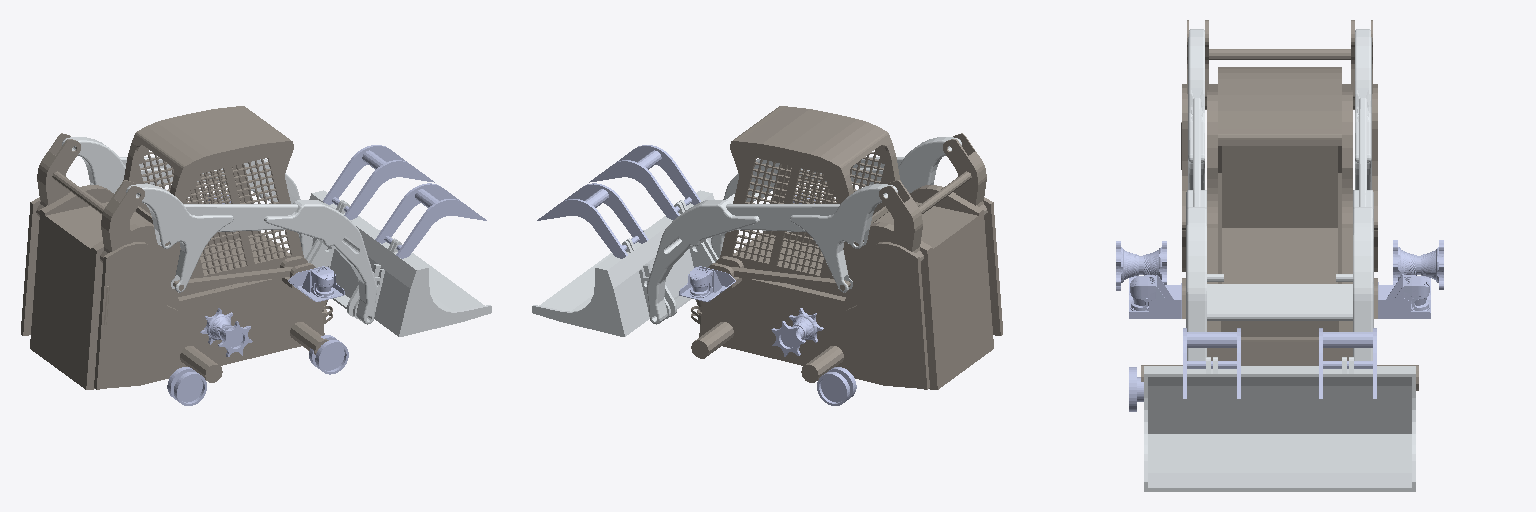
--- Render facts (derived) ---
3 views of the same robot in one strip: view 1: azimuth 30°, elevation 25°; view 2: azimuth 150°, elevation 25°; view 3: azimuth 270°, elevation 25° (orthographic).
Robot: Sahar — 18 links, 17 joints (5 revolute, 6 continuous, 6 fixed); root link body; default pose: every joint at zero.
Links seen in each view (by area): view 1: body, cabin, main_arm, loader, brackets, base_arm, right_sick_link, right_wheel, back_right_boggie, supporter, front_right_boggie; view 2: body, cabin, main_arm, loader, brackets, base_arm, left_sick_link, left_wheel, back_left_boggie, supporter; view 3: loader, body, main_arm, cabin, brackets, base_arm, left_sick_link, right_sick_link, left_wheel, right_wheel.
Link boxes in pixels (x1,y1,x2,y2): body: (21,185,328,389); cabin: (123,106,303,297); main_arm: (62,137,376,324); loader: (305,190,491,336); brackets: (323,145,486,258); base_arm: (36,133,144,262); right_sick_link: (288,266,344,301); right_wheel: (200,308,252,356); back_right_boggie: (167,367,206,405); supporter: (173,267,292,290); front_right_boggie: (309,335,348,374); body: (691,185,1002,389); cabin: (720,106,900,297); main_arm: (647,137,961,324); loader: (532,190,718,336); brackets: (537,145,700,258); base_arm: (879,133,987,262); left_sick_link: (679,266,735,301); left_wheel: (771,308,823,356); back_left_boggie: (817,367,856,405); supporter: (731,267,850,290); loader: (1144,357,1415,491); body: (1141,84,1418,390); main_arm: (1186,29,1373,360); cabin: (1218,67,1341,283); brackets: (1183,328,1376,398); base_arm: (1187,20,1372,109); left_sick_link: (1378,274,1430,318); right_sick_link: (1129,275,1181,318); left_wheel: (1393,240,1443,289); right_wheel: (1116,241,1166,290).
Bounding box of the posed robot: 3.57 × 2 × 1.87 m (x, y, z).
16 mesh visuals loaded from 18 distinct referenced files (16 binary STL); not drawn: 2 (reference not matched to a file when rendering).

robot.urdf — Sahar:
<?xml version="1.0"?>
<robot
  name="Sahar">
  <link
    name="body">
    <inertial>
      <origin
        xyz="-0.890714078986241 0.000176354230843794 0.525609535873677"
        rpy="0 0 0" />
      <mass
        value="2112.2632057713" />
      <inertia
        ixx="330.451427275626"
        ixy="0.1258707518716585"
        ixz="-85.8115001993615"
        iyy="750.047261721269"
        iyz="-0.001202697501709275"
        izz="817.534535636717" />
    </inertial>
    <visual>
      <origin
        xyz="0 0 0"
        rpy="0 0 0" />
      <geometry>
        <mesh
          filename="package://bobcat/meshes/body.STL" />
      </geometry>
      <material
        name="">
        <color
          rgba="0.647058823529412 0.619607843137255 0.588235294117647 0.5" />
      </material>
    </visual>
    <collision>
      <origin
        xyz="0 0 0"
        rpy="0 0 0" />
      <geometry>
        <mesh
          filename="package://bobcat/meshes/body.STL" />
      </geometry>
    </collision>
  </link>
<!--
  <link
    name="front_left_wheel">
    <inertial>
      <origin
        xyz="2.0502E-07 0.19645 -3.6566E-09"
        rpy="0 0 0" />
      <mass
        value="333.358058377662" />
      <inertia
        ixx="17.076451771348393"
        ixy="-0.0000402018623479272"
        ixz="0.0000757982020811204"
        iyy="29.61581234283818"
        iyz="-0.66419529835185E-05"
        izz="17.076451812789907" />
    </inertial>
    <visual>
      <origin
        xyz="0 0 0"
        rpy="0 0 0" />
      <geometry>
        <mesh
          filename="package://bobcat/meshes/front_left_wheel.stl" />
      </geometry>
      <material
        name="">
        <color
          rgba="0.64706 0.61961 0.58824 1" />
      </material>
    </visual>
    <collision>
      <origin
        xyz="0 0.2 0"
        rpy="1.5708 0 0" />
      <geometry>
        <cylinder length="0.4" radius="0.4" 
          />
      </geometry>
    </collision>
  </link>
  <joint
    name="front_left_wheel_joint"
    type="continuous">
    <origin
      xyz="-0.22722 0.47558 0.125"
      rpy="0 2.1164E-16 0" />
    <parent
      link="body" />
    <child
      link="front_left_wheel" />
    <axis
      xyz="0 1 0" />
  </joint>
  <link
    name="front_right_wheel">
    <inertial>
      <origin
        xyz="-2.0519E-07 -0.19645 -4.3198E-09"
        rpy="0 0 0" />
      <mass
        value="333.358057183995" />
      <inertia
        ixx="17.076452573211751"
        ixy="-0.0000366953981898767"
        ixz="-0.0000754939559210241"
        iyy="29.61581234970523"
        iyz="1.220983077663846E-05"
        izz="17.076451008669259" />
    </inertial>
    <visual>
      <origin
        xyz="0 0 0"
        rpy="0 0 0" />
      <geometry>
        <mesh
          filename="package://bobcat/meshes/front_right_wheel.stl" />
      </geometry>
      <material
        name="">
        <color
          rgba="0.64706 0.61961 0.58824 1" />
      </material>
    </visual>
    <collision>
      <origin
        xyz="0 0.2 0"
        rpy="1.5708 0 0" />
      <geometry>
        <cylinder length="0.4" radius="0.4" 
          />
      </geometry>
    </collision>
  </link>
  <joint
    name="front_right_wheel_joint"
    type="continuous">
    <origin
      xyz="-0.22722 -0.47558 0.125"
      rpy="0 2.1164E-16 0" />
    <parent
      link="body" />
    <child
      link="front_right_wheel" />
    <axis
      xyz="0 1 0" />
  </joint>
  <link
    name="back_left_wheel">
    <inertial>
      <origin
        xyz="7.7344E-08 0.19645 1.8868E-07"
        rpy="0 0 0" />
      <mass
        value="333.35805719188" />
      <inertia
        ixx="17.076452970123344"
        ixy="-2.7936718473607865E-06"
        ixz="-0.0000668628917564486"
        iyy="29.61581228201546"
        iyz="-0.0000133650614295266"
        izz="17.076450606340583" />
    </inertial>
    <visual>
      <origin
        xyz="0 0 0"
        rpy="0 0 0" />
      <geometry>
        <mesh
          filename="package://bobcat/meshes/back_left_wheel.stl" />
      </geometry>
      <material
        name="">
        <color
          rgba="0.64706 0.61961 0.58824 1" />
      </material>
    </visual>
    <collision>
      <origin
        xyz="0 -0.2 0"
        rpy="1.5708 0 0" />
      <geometry>
        <cylinder length="0.4" radius="0.4" 
          />
      </geometry>
    </collision>
  </link>
  <joint
    name="back_left_wheel_joint"
    type="continuous">
    <origin
      xyz="-1.227 0.47558 0.14772"
      rpy="0 2.1164E-16 0" />
    <parent
      link="body" />
    <child
      link="back_left_wheel" />
    <axis
      xyz="0 1 0" />
  </joint>
  <link
    name="back_right_wheel">
    <inertial>
      <origin
        xyz="-1.4894E-07 -0.19645 1.3751E-07"
        rpy="0 0 0" />
      <mass
        value="333.36" />
      <inertia
        ixx="17.07645"
        ixy="-1.87699E-05"
        ixz="1.23277E-05"
        iyy="29.6158"
        iyz="0.000031578"
        izz="17.07645" />
    </inertial>
    <visual>
      <origin
        xyz="0 0 0"
        rpy="0 0 0" />
      <geometry>
        <mesh
          filename="package://bobcat/meshes/back_right_wheel.stl" />
      </geometry>
      <material
        name="">
        <color
          rgba="0.64706 0.61961 0.58824 1" />
      </material>
    </visual>
    <collision>
      <origin
        xyz="0 -0.2 0"
        rpy="1.5708 0 0" />
      <geometry>
        <cylinder length="0.4" radius="0.4" 
          />
      </geometry>
    </collision>
  </link>
  <joint
    name="back_right_wheel_joint"
    type="continuous">
    <origin
      xyz="-1.227 -0.47558 0.14772"
      rpy="0 2.1164E-16 0" />
    <parent
      link="body" />
    <child
      link="back_right_wheel" />
    <axis
      xyz="0 1 0" />
  </joint>
-->
  <link
    name="base_arm">
    <inertial>
      <origin
        xyz="0.066509 1.9771E-12 0.25686"
        rpy="0 0 0" />
      <mass
        value="194.91" />
      <inertia
        ixx="50.76"
        ixy="-2.9264E-11"
        ixz="0.66798"
        iyy="4.8017"
        iyz="7.0403E-12"
        izz="47.388" />
    </inertial>
    <visual>
      <origin
        xyz="0 0 0"
        rpy="0 0 0" />
      <geometry>
        <mesh
          filename="package://bobcat/meshes/base_arm.STL" />
      </geometry>
      <material
        name="">
        <color
          rgba="0.64706 0.61961 0.58824 1" />
      </material>
    </visual>
    <collision>
      <origin
        xyz="0 0 0"
        rpy="0 0 0" />
      <geometry>
        <mesh
          filename="package://bobcat/meshes/base_arm.STL" />
      </geometry>
    </collision>
  </link>
  <joint
    name="base_arm_joint"
    type="revolute">
    <origin
      xyz="-1.9776 0 1.1773"
      rpy="0 2.1164E-16 0" />
    <parent
      link="body" />
    <child
      link="base_arm" />
    <axis
      xyz="0 1 0" />
    <limit
      lower="-1.57"
      upper="1.57"
      effort="1000000"
      velocity="100" />
  </joint>
  <link
    name="main_arm">
    <inertial>
      <origin
        xyz="1.1865 -4.0206E-07 -0.60466"
        rpy="0 0 0" />
      <mass
        value="369.05" />
      <inertia
        ixx="133.74"
        ixy="0.00012791"
        ixz="-68.753"
        iyy="216.24"
        iyz="-4.6593E-05"
        izz="268.55" />
    </inertial>
    <visual>
      <origin
        xyz="0 0 0"
        rpy="0 0 0" />
      <geometry>
        <mesh
          filename="package://bobcat/meshes/main_arm.STL" />
      </geometry>
      <material
        name="">
        <color
          rgba="0.89412 0.91373 0.92941 1" />
      </material>
    </visual>
    <collision>
      <origin
        xyz="0 0 0"
        rpy="0 0 0" />
      <geometry>
        <mesh
          filename="package://bobcat/meshes/main_arm.STL" />
      </geometry>
    </collision>
  </link>
  <joint
    name="main_arm_joint"
    type="revolute">
    <origin
      xyz="0.22304 0 0.5262"
      rpy="0 -2.1164E-16 0" />
    <parent
      link="base_arm" />
    <child
      link="main_arm" />
    <axis
      xyz="0 1 0" />
    <limit
      lower="-1.57"
      upper="1.57"
      effort="1000000"
      velocity="100" />
  </joint>
  <link
    name="supporter">
    <inertial>
      <origin
        xyz="0.51341 -4.9085E-16 -0.060486"
        rpy="0 0 0" />
      <mass
        value="65.29" />
      <inertia
        ixx="16.898"
        ixy="-2.3004E-13"
        ixz="-0.76501"
        iyy="6.6127"
        iyz="-2.4072E-13"
        izz="23.301" />
    </inertial>
    <visual>
      <origin
        xyz="0 0 0"
        rpy="0 0 0" />
      <geometry>
        <mesh
          filename="package://bobcat/meshes/supporter.STL" />
      </geometry>
      <material
        name="">
        <color
          rgba="0.64706 0.61961 0.58824 1" />
      </material>
    </visual>
    <collision>
      <origin
        xyz="0 0 0"
        rpy="0 0 0" />
      <geometry>
        <mesh
          filename="package://bobcat/meshes/supporter.STL" />
      </geometry>
    </collision>
  </link>
  <joint
    name="supporter_joint"
    type="revolute">
    <origin
      xyz="0.39771 0 -0.89486"
      rpy="0 8.0491E-16 0" />
    <parent
      link="main_arm" />
    <child
      link="supporter" />
    <axis
      xyz="0 1 0" />
    <limit
      lower="-0.2"
      upper="1.5"
      effort="1000000"
      velocity="100" />
  </joint>
<!--  <link
    name="front_cylinder">
    <inertial>
      <origin
        xyz="0.16022 1.6587E-08 -0.17142"
        rpy="0 0 0" />
      <mass
        value="24.149" />
      <inertia
        ixx="4.0554"
        ixy="-4.9938E-08"
        ixz="-0.46391"
        iyy="0.95412"
        iyz="6.094E-08"
        izz="3.9926" />
    </inertial>
    <visual>
      <origin
        xyz="0 0 0"
        rpy="0 0 0" />
      <geometry>
        <mesh
          filename="package://bobcat/meshes/front_cylinder.STL" />
      </geometry>
      <material
        name="">
        <color
          rgba="0.64706 0.61961 0.58824 1" />
      </material>
    </visual>
    <collision>
      <origin
        xyz="0 0 0"
        rpy="0 0 0" />
      <geometry>
        <mesh
          filename="package://bobcat/meshes/front_cylinder.STL" />
      </geometry>
    </collision>
  </link>
  <joint
    name="front_cylinder_joint"
    type="revolute">
    <origin
      xyz="1.741 0 -0.80293"
      rpy="0 8.0491E-16 0" />
    <parent
      link="main_arm" />
    <child
      link="front_cylinder" />
    <axis
      xyz="0 1 0" />
    <limit
      lower="-1.57"
      upper="1.57"
      effort="1000000"
      velocity="100" />
  </joint>
  <link
    name="front_shaft">
    <inertial>
      <origin
        xyz="9.4954E-07 8.3283E-07 -0.19417"
        rpy="0 0 0" />
      <mass
        value="13.711" />
      <inertia
        ixx="2.4234"
        ixy="-2.5882E-07"
        ixz="1.3728E-06"
        iyy="0.41181"
        iyz="1.3005E-06"
        izz="2.0158" />
    </inertial>
    <visual>
      <origin
        xyz="0 0 0"
        rpy="0 0 0" />
      <geometry>
        <mesh
          filename="package://bobcat/meshes/front_shaft.STL" />
      </geometry>
      <material
        name="">
        <color
          rgba="0.64706 0.61961 0.58824 1" />
      </material>
    </visual>
    <collision>
      <origin
        xyz="0 0 0"
        rpy="0 0 0" />
      <geometry>
        <mesh
          filename="package://bobcat/meshes/front_shaft.STL" />
      </geometry>
    </collision>
  </link>
  <joint
    name="front_shaft_joint"
    type="prismatic">
    <origin
      xyz="0.50479 0 -0.54009"
      rpy="-3.1416 0.75163 -3.1416" />
    <parent
      link="front_cylinder" />
    <child
      link="front_shaft" />
    <axis
      xyz="0 0 1" />
    <limit
      lower="-0.1"
      upper="0.6"
      effort="1000000"
      velocity="100" />
  </joint>
-->
  <link
    name="loader">
    <inertial>
      <origin
        xyz="0.37894 2.192E-15 0.067409"
        rpy="0 0 0" />
      <mass
        value="98.03" />
      <inertia
        ixx="29.346"
        ixy="0"
        ixz="-1.55"
        iyy="9.25"
        iyz="0"
        izz="32.05" />
    </inertial>
    <visual>
      <origin
        xyz="0 0 0"
        rpy="0 0 0" />
      <geometry>
        <mesh
          filename="package://bobcat/meshes/loader.STL" />
      </geometry>
      <material
        name="">
        <color
          rgba="0.89412 0.91373 0.92941 1" />
      </material>
    </visual>
    <collision>
      <origin
        xyz="0 0 0"
        rpy="0 0 0" />
      <geometry>
        <mesh
          filename="package://bobcat/meshes/loader.STL" />
      </geometry>
    </collision>
  </link>
  <joint
    name="loader_joint"
    type="revolute">
    <origin
      xyz="2.0984 0 -1.557"
      rpy="0 2.5362E-15 0" />
    <parent
      link="main_arm" />
    <child
      link="loader" />
    <axis
      xyz="0 1 0" />
    <limit
      lower="0"
      upper="1.57"
      effort="1000000"
      velocity="100" />
  </joint>
  <link
    name="brackets">
    <inertial>
      <origin
        xyz="0.14213 -1.579E-16 0.33109"
        rpy="0 0 0" />
      <mass
        value="12.857" />
      <inertia
        ixx="2.9339"
        ixy="-2.9653E-16"
        ixz="0.23718"
        iyy="0.67251"
        iyz="3.0656E-16"
        izz="2.738" />
    </inertial>
    <visual>
      <origin
        xyz="0 0 0"
        rpy="0 0 0" />
      <geometry>
        <mesh
          filename="package://bobcat/meshes/brackets.STL" />
      </geometry>
      <material
        name="">
        <color
          rgba="0.79216 0.81961 0.93333 1" />
      </material>
    </visual>
    <collision>
      <origin
        xyz="0 0 0"
        rpy="0 0 0" />
      <geometry>
        <mesh
          filename="package://bobcat/meshes/brackets.STL" />
      </geometry>
    </collision>
  </link>
  <joint
    name="brackets_joint"
    type="revolute">
    <origin
      xyz="0.33833 0 0.49449"
      rpy="0 0 0" />
    <parent
      link="loader" />
    <child
      link="brackets" />
    <axis
      xyz="0 1 0" />
    <limit
      lower="0"
      upper="1"
      effort="1000000"
      velocity="1000000" />
  </joint>
<!--
  <link
    name="back_cylinder">
    <inertial>
      <origin
        xyz="0.14567 5.3127E-08 0.43479"
        rpy="0 0 0" />
      <mass
        value="30.817" />
      <inertia
        ixx="10.053"
        ixy="-2.1135E-07"
        ixz="0.70965"
        iyy="2.3798"
        iyz="-5.4817E-07"
        izz="8.1729" />
    </inertial>
    <visual>
      <origin
        xyz="0 0 0"
        rpy="0 0 0" />
      <geometry>
        <mesh
          filename="package://bobcat/meshes/back_cylinder.STL" />
      </geometry>
      <material
        name="">
        <color
          rgba="0.64706 0.61961 0.58824 1" />
      </material>
    </visual>
    <collision>
      <origin
        xyz="0 0 0"
        rpy="0 0 0" />
      <geometry>
        <mesh
          filename="package://bobcat/meshes/back_cylinder.STL" />
      </geometry>
    </collision>
  </link>
  <joint
    name="back_cylinder_joint"
    type="revolute">
    <origin
      xyz="-1.8135 0 0.2184"
      rpy="0 8.0491E-16 0" />
    <parent
      link="body" />
    <child
      link="back_cylinder" />
    <axis
      xyz="0 1 0" />
    <limit
      lower="-1.57"
      upper="1.57"
      effort="1000000"
      velocity="100" />
  </joint>
  <link
    name="back_shaft">
    <inertial>
      <origin
        xyz="-1.2324E-08 -4.788E-09 -0.41004"
        rpy="0 0 0" />
      <mass
        value="20.367" />
      <inertia
        ixx="6.9354"
        ixy="-8.5203E-07"
        ixz="7.9714E-09"
        iyy="1.7047"
        iyz="-3.6983E-09"
        izz="5.2356" />
    </inertial>
    <visual>
      <origin
        xyz="0 0 0"
        rpy="0 0 0" />
      <geometry>
        <mesh
          filename="package://bobcat/meshes/back_shaft.STL" />
      </geometry>
      <material
        name="">
        <color
          rgba="0.64706 0.61961 0.58824 1" />
      </material>
    </visual>
    <collision>
      <origin
        xyz="0 0 0"
        rpy="0 0 0" />
      <geometry>
        <mesh
          filename="package://bobcat/meshes/back_shaft.STL" />
      </geometry>
    </collision>
  </link>
  <joint
    name="back_shaft_joint"
    type="prismatic">
    <origin
      xyz="0.33441 0 0.99813"
      rpy="-5.7722E-16 0.32328 -4.9954E-16" />
    <parent
      link="back_cylinder" />
    <child
      link="back_shaft" />
    <axis
      xyz="0 0 1" />
    <limit
      lower="-0.2"
      upper="1"
      effort="1000000"
      velocity="100" />
  </joint>
-->
<link
    name="cabin">
    <inertial>
      <origin
        xyz="-0.70338 -5.738E-08 0.72817"
        rpy="0 0 0" />
      <mass
        value="496.33" />
      <inertia
        ixx="138.34"
        ixy="-1.1017E-06"
        ixz="8.4609"
        iyy="150.8"
        iyz="-2.3341E-06"
        izz="117.01" />
    </inertial>
    <visual>
      <origin
        xyz="0 0 0"
        rpy="0 0 0" />
      <geometry>
        <mesh
          filename="package://bobcat/meshes/cabin.STL" />
      </geometry>
      <material
        name="">
        <color
          rgba="0.64706 0.61961 0.58824 1" />
      </material>
    </visual>
    <collision>
      <origin
        xyz="0 0 0"
        rpy="0 0 0" />
      <geometry>
        <mesh
          filename="package://bobcat/meshes/cabin.STL" />
      </geometry>
    </collision>
  </link>
  <joint
    name="cabin_joint"
    type="fixed">
    <origin
      xyz="-0.11317 0 0.61042"
      rpy="0 8.0491E-16 0" />
    <parent
      link="body" />
    <child
      link="cabin" />
    <axis
      xyz="0 1 0" />
  </joint>
  <link
    name="Ibeo_link">
    <inertial>
      <origin
        xyz="-0.50455 -0.03223 -1.3338"
        rpy="0 0 0" />
      <mass
        value="10.460" />
      <inertia
        ixx="8.1287"
        ixy="0"
        ixz="0.55289"
        iyy="8.9548"
        iyz="0"
        izz="6.4192" />
    </inertial>
    <visual>
      <origin
        xyz="0 0 0"
        rpy="0 0 0" />
      <geometry>
        <mesh
          filename="package://bobcat/meshes/Ibeo.STL" />
      </geometry>
      <material
        name="">
        <color
          rgba="1 1 1 1" />
      </material>
    </visual>
    <collision>
      <origin
        xyz="0 0 0"
        rpy="0 0 0" />
      <geometry>
        <mesh
          filename="package://bobcat/meshes/Ibeo_lite.stl" />
      </geometry>
    </collision>
  </link>
  <joint
    name="Ibeo_joint"
    type="fixed">
    <origin
      xyz="-0.18258 0.03227 1.2493"
      rpy="1.570796327 -5.9328E-16 1.570796327" />
    <parent
      link="cabin" />
    <child
      link="Ibeo_link" />
    <axis
      xyz="0 0 0" />
  </joint>
  <link
    name="left_sick_link">
    <inertial>
      <origin
        xyz="-0.89565 0.58058 -0.24712"
        rpy="0 0 0" />
      <mass
        value="10.642" />
      <inertia
        ixx="5.5107"
        ixy="-0.00022597"
        ixz="0.000019765"
        iyy="4.5364"
        iyz="0.67063"
        izz="6.5674" />
    </inertial>
    <visual>
      <origin
        xyz="0 0 0"
        rpy="0 0 0" />
      <geometry>
        <mesh
          filename="package://bobcat/meshes/left_sick.STL" />
      </geometry>
      <material
        name="">
        <color
          rgba="0.79216 0.81961 0.93333 1" />
      </material>
    </visual>
    <collision>
      <origin
        xyz="0 0 0"
        rpy="0 0 0" />
      <geometry>
        <mesh
          filename="package://bobcat/meshes/left_sick_lite.stl" />
      </geometry>
    </collision>
  </link>
  <joint
    name="left_sick_joint"
    type="fixed">
    <origin
      xyz="-0.21801 0.89557 0.66494"
      rpy="1.5708 0 1.5708" />
    <parent
      link="body" />
    <child
      link="left_sick_link" />
    <axis
      xyz="0 -1 0" />
  </joint>
  <link
    name="right_sick_link">
    <inertial>
      <origin
        xyz="-0.89568 -0.58119 -0.24712"
        rpy="0 0 0" />
      <mass
        value="10.642" />
      <inertia
        ixx="5.5107"
        ixy="-0.00022597"
        ixz="-0.000019765"
        iyy="4.5364"
        iyz="-0.67063"
        izz="6.5674" />
    </inertial>
    <visual>
      <origin
        xyz="0 0 0"
        rpy="0 0 0" />
      <geometry>
        <mesh
          filename="package://bobcat/meshes/right_sick.STL" />
      </geometry>
      <material
        name="">
        <color
          rgba="0.79216 0.81961 0.93333 1" />
      </material>
    </visual>
    <collision>
      <origin
        xyz="0 0 0"
        rpy="0 0 0" />
      <geometry>
        <mesh
          filename="package://bobcat/meshes/right_sick_lite.stl" />
      </geometry>
    </collision>
  </link>
  <joint
    name="right_sick_joint"
    type="fixed">
    <origin
      xyz="-0.2174 -0.89576 0.66494"
      rpy="1.5708 0 1.5708" />
    <parent
      link="body" />
    <child
      link="right_sick_link" />
    <axis
      xyz="0 -1 0" />
  </joint>
  <link
    name="front_sick_link">
    <inertial>
      <origin
        xyz="-0.89885 0.00019572 0.43638"
        rpy="0 0 0" />
      <mass
        value="4.5223" />
      <inertia
        ixx="0.77018"
        ixy="0.00031619"
        ixz="-0.20002"
        iyy="1.747"
        iyz="-0.0000281"
        izz="1.9059" />
    </inertial>
    <visual>
      <origin
        xyz="0 0 0"
        rpy="0 0 0" />
      <geometry>
        <mesh
          filename="package://bobcat/meshes/front_sick.STL" />
      </geometry>
      <material
        name="">
        <color
          rgba="0.64706 0.61961 0.58824 1" />
      </material>
    </visual>
    <collision>
      <origin
        xyz="0 0 0"
        rpy="0 0 0" />
      <geometry>
        <mesh
          filename="package://bobcat/meshes/front_sick_lite.stl" />
      </geometry>
    </collision>
  </link>
  <joint
    name="front_sick_joint"
    type="fixed">
    <origin
      xyz="0.26113 0 0.048493"
      rpy="1.5708 0 1.5708" />
    <parent
      link="body" />
    <child
      link="front_sick_link" />
    <axis
      xyz="0 1 0" />
  </joint>
  <link
    name="supporter_hinge">
    <inertial>
      <origin
        xyz="-6.2676E-16 -2.2204E-16 1.1102E-16"
        rpy="0 0 0" />
      <mass
        value="1.6828" />
      <inertia
        ixx="0.00017338"
        ixy="-6.163E-33"
        ixz="-1.9205E-35"
        iyy="0.42748"
        iyz="6.6217E-37"
        izz="0.42748" />
    </inertial>
    <visual>
      <origin
        xyz="0 0 0"
        rpy="0 0 0" />
      <geometry>
        <mesh
          filename="package://bobcat/meshes/supporter_hinge.STL" />
      </geometry>
      <material
        name="">
        <color
          rgba="0.64706 0.61961 0.58824 1" />
      </material>
    </visual>
    <collision>
      <origin
        xyz="0 0 0"
        rpy="0 0 0" />
      <geometry>
        <mesh
          filename="package://bobcat/meshes/supporter_hinge.STL" />
      </geometry>
    </collision>
  </link>
  <joint
    name="supporter_hinge_joint"
    type="fixed">
    <origin
      xyz="-0.31547 0 0.68593"
      rpy="1.5708 0 1.5708" />
    <parent
      link="body" />
    <child
      link="supporter_hinge" />
    <axis
      xyz="1 0 0" />
  </joint>


<!-- add by Or-->



<link
    name="right_wheel">
    <inertial>
      <origin
        xyz="-0.725 0 0"
        rpy="0 0 0" />
      <mass
        value="5.4973106115847" />
      <inertia
        ixx="0.0331571866222433"
        ixy="4.74591956306214E-11"
        ixz="-7.11777670092528E-12"
        iyy="0.0750084493873789"
        iyz="-3.13569619781006E-12"
        izz="0.0750084493853636" />
    </inertial>
    <visual>
      <origin
        xyz="0 0 0"
        rpy="0 0 0" />
      <geometry>
        <mesh
          filename="package://bobcat_gazebo/meshes_bobcat_with_boggies/right_wheel.STL" />
      </geometry>
      <material
        name="">
        <color
          rgba="0.792156862745098 0.819607843137255 0.933333333333333 1" />
      </material>
    </visual>
<!--
    <collision>
      <origin
        xyz="0 0 0"
        rpy="0 0 0" />
      <geometry>
        <mesh
          filename="package://bobcat_gazebo/meshes_bobcat_with_boggies/right_wheel.STL" />
      </geometry>

    </collision>
-->

    <collision>
      <origin
        xyz="-0.1 0 0"
        rpy="0 1.5708 0" />
      <geometry>
        <cylinder length="0.5" radius="0.1" 
          />

	
         </geometry>
    </collision>



    <collision>
      <origin
        xyz="0.091 0 0"
        rpy="0 1.5708 0" />
      <geometry>
        <cylinder length="0.1" radius="0.3" 

          />

      </geometry>
    </collision>

    <collision>
      <origin
        xyz="-0.35 0 0"
        rpy="0 1.5708 0" />
      <geometry>
        <cylinder length="0.02" radius="0.3" 
          />

      </geometry>
    </collision>

  </link>
  <joint
    name="right_wheel_joint"
    type="continuous">
    <origin
      xyz="-1.109 -1 0.475"
      rpy="1.5708 0 -1.5708" />
    <parent
      link="body" />
    <child
      link="right_wheel" />
    <axis
      xyz="-1 0 0" />

  </joint>
  


<!--  -->

<link
    name="front_right_boggie">
    <inertial>
      <origin
        xyz="-0.072989545637314 0 0"
        rpy="0 0 0" />
      <mass
        value="3.90657046473891" />
      <inertia
        ixx="0.0402750730112348"
        ixy="-1.95495404144972E-19"
        ixz="-3.8871286104849E-19"
        iyy="0.0265900500882693"
        iyz="6.78191046434944E-18"
        izz="0.0265900500882693" />
    </inertial>
    <visual>
      <origin
        xyz="0 0 0"
        rpy="0 0 0" />
      <geometry>
        <mesh
          filename="package://bobcat_gazebo/meshes_bobcat_with_boggies/front_right_boggie.STL" />
      </geometry>
      <material
        name="">
        <color
          rgba="0.792156862745098 0.819607843137255 0.933333333333333 1" />
      </material>
    </visual>
<!--
    <collision>
      <origin
        xyz="0 0 0"
        rpy="0 0 0" />
      <geometry>
        <mesh
          filename="package://bobcat_gazebo/meshes_bobcat_with_boggies/front_right_boggie.STL" />
      </geometry>
    </collision>
-->

    <collision>
      <origin
        xyz="-0.1 0 0"
        rpy="0 1.5708 0" />
      <geometry>
        <cylinder length="0.5" radius="0.1" 
          />
      </geometry>
    </collision>

    <collision>
      <origin
        xyz="0.12 0 0"
        rpy="0 1.5708 0" />
      <geometry>
        <cylinder length="0.02" radius="0.17" 
          />
      </geometry>
    </collision>

    <collision>
      <origin
        xyz="-0.265 0 0"
        rpy="0 1.5708 0" />
      <geometry>
        <cylinder length="0.02" radius="0.17" 
          />

      </geometry>
    </collision>

  </link>
  <joint
    name="front_right_boggie_joint"
    type="continuous">
    <origin
      xyz="-0.183 -0.92 0.069"
      rpy="1.5708 0 -1.5708" />
    <parent
      link="body" />
    <child
      link="front_right_boggie" />
    <axis
      xyz="-1 0 0" />

  </joint>
  <link
    name="back_right_boggie">
    <inertial>
      <origin
        xyz="-0.0729895456373141 0 0"
        rpy="0 0 0" />
      <mass
        value="3.90657046473891" />
      <inertia
        ixx="0.0402750730112348"
        ixy="-6.18564037846812E-22"
        ixz="4.99160466967745E-18"
        iyy="0.0265900500882693"
        iyz="3.6043016557644E-20"
        izz="0.0265900500882693" />
    </inertial>
    <visual>
      <origin
        xyz="0 0 0"
        rpy="0 0 0" />
      <geometry>
        <mesh
          filename="package://bobcat_gazebo/meshes_bobcat_with_boggies/back_right_boggie.STL" />
      </geometry>
      <material
        name="">
        <color
          rgba="0.792156862745098 0.819607843137255 0.933333333333333 1" />
      </material>
    </visual>
<!--
    <collision>
      <origin
        xyz="0 0 0"
        rpy="0 0 0" />
      <geometry>
        <mesh
          filename="package://bobcat_gazebo/meshes_bobcat_with_boggies/back_right_boggie.STL" />
      </geometry>
    </collision>
-->

    <collision>
      <origin
        xyz="-0.1 0 0"
        rpy="0 1.5708 0" />
      <geometry>
        <cylinder length="0.5" radius="0.1" 
          />
      </geometry>
    </collision>

     <collision>
      <origin
        xyz="0.12 0 0"
        rpy="0 1.5708 0" />
      <geometry>
        <cylinder length="0.02" radius="0.17" 
          />
      </geometry>
    </collision>

    <collision>
      <origin
        xyz="-0.265 0 0"
        rpy="0 1.5708 0" />
      <geometry>
        <cylinder length="0.02" radius="0.17" 
          />

      </geometry>
    </collision>

  </link>
  <joint
    name="back_right_boggie_joint"
    type="continuous">
    <origin
      xyz="-1.47 -0.92 0.093"
      rpy="1.5708 0 -1.5708" />
    <parent
      link="body" />
    <child
      link="back_right_boggie" />
    <axis
      xyz="-1 0 0" />

  </joint>
<!-- end of right side-->

<!-- begining of left side-->

 <link
    name="left_wheel">
    <inertial>
      <origin
        xyz="0.142856176942976 -3.81439602126221E-11 5.83338988224824E-10"
        rpy="0 0 0" />
      <mass
        value="5.49731061158471" />
      <inertia
        ixx="0.0331571866215895"
        ixy="-3.76042672089463E-11"
        ixz="3.34298670147488E-11"
        iyy="0.0750084493824547"
        iyz="4.71480493535736E-13"
        izz="0.0750084493896341" />
    </inertial>
    <visual>
      <origin
        xyz="0 0 0"
        rpy="0 0 0" />
      <geometry>
        <mesh
          filename="package://bobcat_gazebo/meshes_bobcat_with_boggies/left_wheel.STL" />
      </geometry>
      <material
        name="">
        <color
          rgba="0.792156862745098 0.819607843137255 0.933333333333333 1" />
      </material>
    </visual>

<!--
    <collision>
      <origin
        xyz="0 0 0"
        rpy="0 0 0" />
      <geometry>
        <mesh
          filename="package://bobcat_gazebo/meshes_bobcat_with_boggies/left_wheel.STL" />
      </geometry>
    </collision>
-->
    <collision>
      <origin
        xyz="0.1 0 0"
        rpy="0 1.5708 0" />
      <geometry>
        <cylinder length="0.5" radius="0.1" 

          />
      </geometry>
    </collision>

    <collision>
      <origin
        xyz="-0.091 0 0"
        rpy="0 1.5708 0" />
      <geometry>
        <cylinder length="0.1" radius="0.3" 
          />

      </geometry>
    </collision>

    <collision>
      <origin
        xyz="0.35 0 0"
        rpy="0 1.5708 0" />
      <geometry>
        <cylinder length="0.02" radius="0.3" 
          />

      </geometry>
    </collision>

  </link>
  <joint
    name="left_wheel_joint"
    type="continuous">
    <origin
      xyz="-1.109 1 0.475"
      rpy="-1.1939 3.4487E-16 -1.5708" />
    <parent
      link="body" />
    <child
      link="left_wheel" />
    <axis
      xyz="-1 0 0" />

  </joint>

<!--  -->

<link
    name="front_left_boggie">
    <inertial>
      <origin
        xyz="-0.072989545637314 2.22044604925031E-16 0"
        rpy="0 0 0" />
      <mass
        value="3.90657046473891" />
      <inertia
        ixx="0.0402750730112348"
        ixy="-7.48894709617106E-18"
        ixz="-5.75771465104378E-19"
        iyy="0.0265900500882693"
        iyz="1.19262238973405E-18"
        izz="0.0265900500882693" />
    </inertial>
    <visual>
      <origin
        xyz="0 0 0"
        rpy="0 0 0" />
      <geometry>
        <mesh
          filename="package://bobcat_gazebo/meshes_bobcat_with_boggies/front_left_boggie.STL" />
      </geometry>
      <material
        name="">
        <color
          rgba="0.792156862745098 0.819607843137255 0.933333333333333 1" />
      </material>
    </visual>
<!--
    <collision>
      <origin
        xyz="0 0 0"
        rpy="0 0 0" />
      <geometry>
        <mesh
          filename="package://bobcat_gazebo/meshes_bobcat_with_boggies/front_left_boggie.STL" />
      </geometry>
    </collision>
-->
    <collision>
      <origin
        xyz="0.1 0 0"
        rpy="0 1.5708 0" />
      <geometry>
        <cylinder length="0.5" radius="0.1" 
          />
      </geometry>
    </collision>


    <collision>
      <origin
        xyz="0.12 0 0"
        rpy="0 1.5708 0" />
      <geometry>
        <cylinder length="0.02" radius="0.17" 
          />
      </geometry>
    </collision>

    <collision>
      <origin
        xyz="-0.265 0 0"
        rpy="0 1.5708 0" />
      <geometry>
        <cylinder length="0.02" radius="0.17" 
          />

      </geometry>
    </collision>


  </link>
  <joint
    name="front_left_boggie_joint"
    type="continuous">
    <origin
     xyz="-0.183 0.92 0.069"
      rpy="-0.022723 -2.5348E-29 1.5708" />
    <parent
      link="body" />
    <child
      link="front_left_boggie" />
    <axis
      xyz="1 0 0" />

  </joint>
  <link
    name="back_left_boggie">
    <inertial>
      <origin
        xyz="-0.072989545637314 0 0"
        rpy="0 0 0" />
      <mass
        value="3.90657046473891" />
      <inertia
        ixx="0.0402750730112348"
        ixy="8.65586547893248E-18"
        ixz="-2.0885755126839E-19"
        iyy="0.0265900500882693"
        iyz="1.30104260698261E-18"
        izz="0.0265900500882693" />
    </inertial>
    <visual>
      <origin
        xyz="0 0 0"
        rpy="0 0 0" />
      <geometry>
        <mesh
          filename="package://bobcat_gazebo/meshes_bobcat_with_boggies/back_left_boggie.STL" />
      </geometry>
      <material
        name="">
        <color
          rgba="0.792156862745098 0.819607843137255 0.933333333333333 1" />
      </material>
    </visual>
<!--
    <collision>
      <origin
        xyz="0 0 0"
        rpy="0 0 0" />
      <geometry>
        <mesh
          filename="package://bobcat_gazebo/meshes_bobcat_with_boggies/back_left_boggie.STL" />
      </geometry>
    </collision>
-->

    <collision>
      <origin
        xyz="0.1 0 0"
        rpy="0 1.5708 0" />
      <geometry>
        <cylinder length="0.5" radius="0.1" 
          />
      </geometry>
    </collision>

    <collision>
      <origin
        xyz="0.12 0 0"
        rpy="0 1.5708 0" />
      <geometry>
        <cylinder length="0.02" radius="0.17" 
          />
      </geometry>
    </collision>

    <collision>
      <origin
        xyz="-0.265 0 0"
        rpy="0 1.5708 0" />
      <geometry>
        <cylinder length="0.02" radius="0.17" 
          />

      </geometry>
    </collision>

  </link>
  <joint
    name="back_left_boggie_joint"
    type="continuous">
    <origin
      xyz="-1.47 0.92 0.093"
      rpy="-0.022723 -2.5348E-29 1.5708" />
    <parent
      link="body" />
    <child
      link="back_left_boggie" />
    <axis
      xyz="-1 0 0" />

  </joint>

<!-- end of edd by or-->



 <!-- Transmissions for ROS Control -->
  <transmission name="tran1">
    <type>transmission_interface/SimpleTransmission</type>
    <joint name="right_wheel_joint">
      <hardwareInterface>EffortJointInterface</hardwareInterface>
    </joint>
    <actuator name="motor1">
      <mechanicalReduction>1</mechanicalReduction>
    </actuator>
  </transmission>

  <transmission name="tran2">
    <type>transmission_interface/SimpleTransmission</type>
    <joint name="left_wheel_joint">
      <hardwareInterface>EffortJointInterface</hardwareInterface>
    </joint>
    <actuator name="motor2">
      <mechanicalReduction>1</mechanicalReduction>
    </actuator>
  </transmission>

  <transmission name="tran5">
    <type>transmission_interface/SimpleTransmission</type>
    <joint name="base_arm_joint">
      <hardwareInterface>EffortJointInterface</hardwareInterface>
    </joint>
    <actuator name="motor5">
      <mechanicalReduction>1</mechanicalReduction>
    </actuator>
  </transmission>

  <transmission name="tran6">
    <type>transmission_interface/SimpleTransmission</type>
    <joint name="main_arm_joint">
      <hardwareInterface>EffortJointInterface</hardwareInterface>
    </joint>
    <actuator name="motor6">
      <mechanicalReduction>1</mechanicalReduction>
    </actuator>
  </transmission>
<!--
  <transmission name="tran7">
    <type>transmission_interface/SimpleTransmission</type>
    <joint name="back_shaft_joint"/>
    <actuator name="motor7">
      <hardwareInterface>EffortJointInterface</hardwareInterface>
      <mechanicalReduction>1</mechanicalReduction>
    </actuator>
  </transmission>
-->
  <transmission name="tran8">
    <type>transmission_interface/SimpleTransmission</type>
    <joint name="supporter_joint">
      <hardwareInterface>EffortJointInterface</hardwareInterface>
    </joint>
    <actuator name="motor8">
      <mechanicalReduction>1</mechanicalReduction>
    </actuator>
  </transmission>
<!--
  <transmission name="tran9">
    <type>transmission_interface/SimpleTransmission</type>
    <joint name="front_cylinder_joint"/>
    <actuator name="motor9">
      <hardwareInterface>EffortJointInterface</hardwareInterface>
      <mechanicalReduction>1</mechanicalReduction>
    </actuator>
  </transmission>
-->
  <transmission name="tran10">
    <type>transmission_interface/SimpleTransmission</type>
    <joint name="loader_joint">
      <hardwareInterface>EffortJointInterface</hardwareInterface>
    </joint>
    <actuator name="motor10">
      <mechanicalReduction>1</mechanicalReduction>
    </actuator>
  </transmission>
<!--
  <transmission name="tran11">
    <type>transmission_interface/SimpleTransmission</type>
    <joint name="front_shaft_joint"/>
    <actuator name="motor11">
      <hardwareInterface>EffortJointInterface</hardwareInterface>
      <mechanicalReduction>1</mechanicalReduction>
    </actuator>
  </transmission>
-->
  <transmission name="tran12">
    <type>transmission_interface/SimpleTransmission</type>
    <joint name="brackets_joint">
      <hardwareInterface>EffortJointInterface</hardwareInterface>
    </joint>
    <actuator name="motor12">
      <mechanicalReduction>1</mechanicalReduction>
    </actuator>
  </transmission>
<!--
  <transmission name="tran12">
    <type>transmission_interface/SimpleTransmission</type>
    <joint name="back_cylinder_joint"/>
    <actuator name="motor12">
      <hardwareInterface>EffortJointInterface</hardwareInterface>
      <mechanicalReduction>1</mechanicalReduction>
    </actuator>
  </transmission>
-->
  <!-- ros_control plugin -->
  <gazebo>
    <plugin name="gazebo_ros_control" filename="libgazebo_ros_control.so">
      <robotNamespace>/Sahar</robotNamespace>
    </plugin>
  </gazebo>
  <gazebo reference="body">
    <mu1>1</mu1>
    <mu2>1</mu2>
    <selfCollide>true</selfCollide>
    <material>Gazebo/Wood</material>
  </gazebo>

  <gazebo reference="right_wheel">
    <mu1>10000</mu1>
    <mu2>10000</mu2>
    <selfCollide>true</selfCollide>
    <material>Gazebo/Grey</material>
  </gazebo>

  <gazebo reference="left_wheel">
    <mu1>10000</mu1>
    <mu2>10000</mu2>
    <selfCollide>true</selfCollide>
    <material>Gazebo/Grey</material>
  </gazebo>


  <gazebo reference="base_arm">
    <material>Gazebo/Grey</material>
  </gazebo>
  <gazebo reference="main_arm">
    <material>Gazebo/PaintedWall</material>
  </gazebo>
<!--
  <gazebo reference="back_shaft">
    <material>Gazebo/Black</material>
  </gazebo>
-->
  <gazebo reference="supporter">
    <mu1>1</mu1>
    <mu2>1</mu2>
    <selfCollide>true</selfCollide>
    <material>Gazebo/GreyTransparent</material>
  </gazebo>
  <gazebo reference="front_cylinder">
    <material>Gazebo/BlueTransparent</material>
  </gazebo>
  <gazebo reference="loader">
    <mu1>1</mu1>
    <mu2>1</mu2>
    <selfCollide>true</selfCollide>
    <material>Gazebo/Gold</material>
  </gazebo>
  <gazebo reference="front_shaft">
    <material>Gazebo/Black</material>
  </gazebo>
<!--
  <gazebo reference="back_cylinder">
    <material>Gazebo/BlueTransparent</material>
  </gazebo>
-->
  <gazebo reference="brackets">
    <mu1>1</mu1>
    <mu2>1</mu2>
    <selfCollide>true</selfCollide>
    <material>Gazebo/Grey</material>
  </gazebo>
  <gazebo reference="Ibeo">
    <material>Gazebo/Grey</material>
  </gazebo>
  <gazebo reference="left_sick">
    <material>Gazebo/Grey</material>
  </gazebo>
  <gazebo reference="right_sick">
    <material>Gazebo/Grey</material>
  </gazebo>
  <gazebo reference="front_sick">
    <material>Gazebo/Grey</material>
  </gazebo>

</robot>
